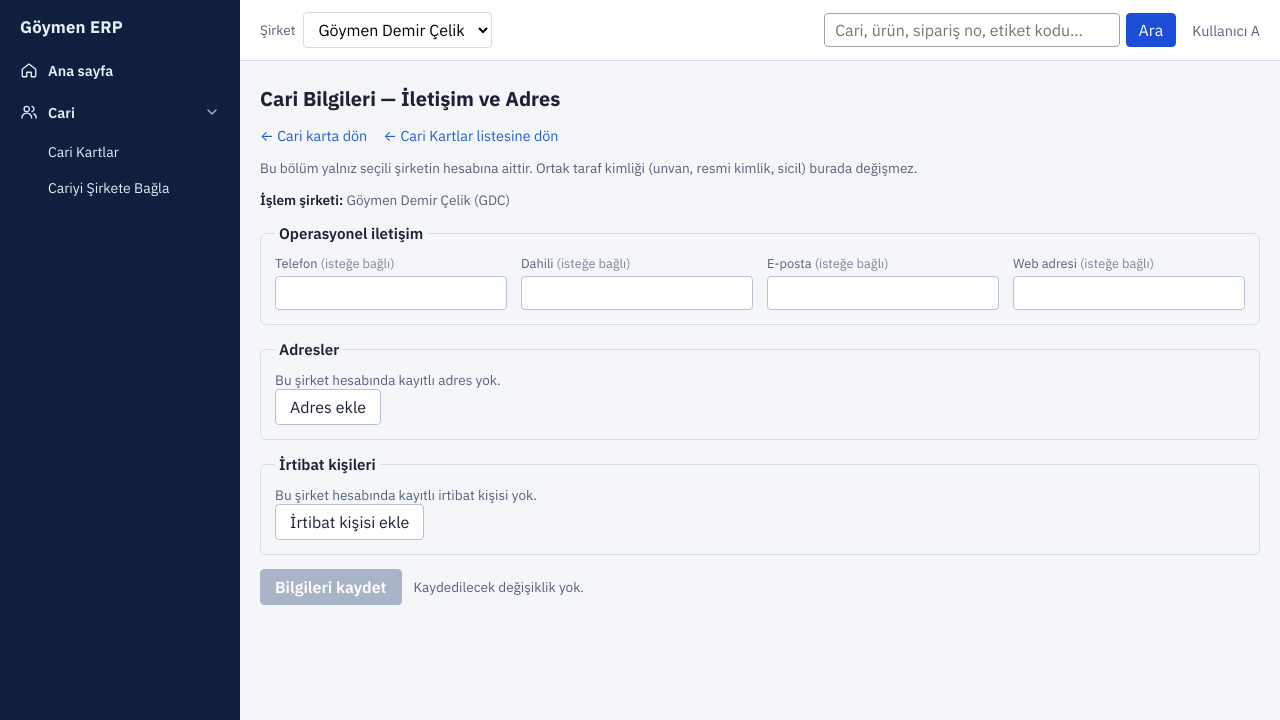
Test: C-06 refusals — the draft survives every one of them › an invalid e-mail stops the save, marks the field and sends nothing
The width and height of the screenshot is (1280, 720).
Type "0212 555 00 00" into the field with id "cari-contact-phone".
click(391, 293); type("0212 555 00 00")  # box x1=275 y1=276 x2=507 y2=310
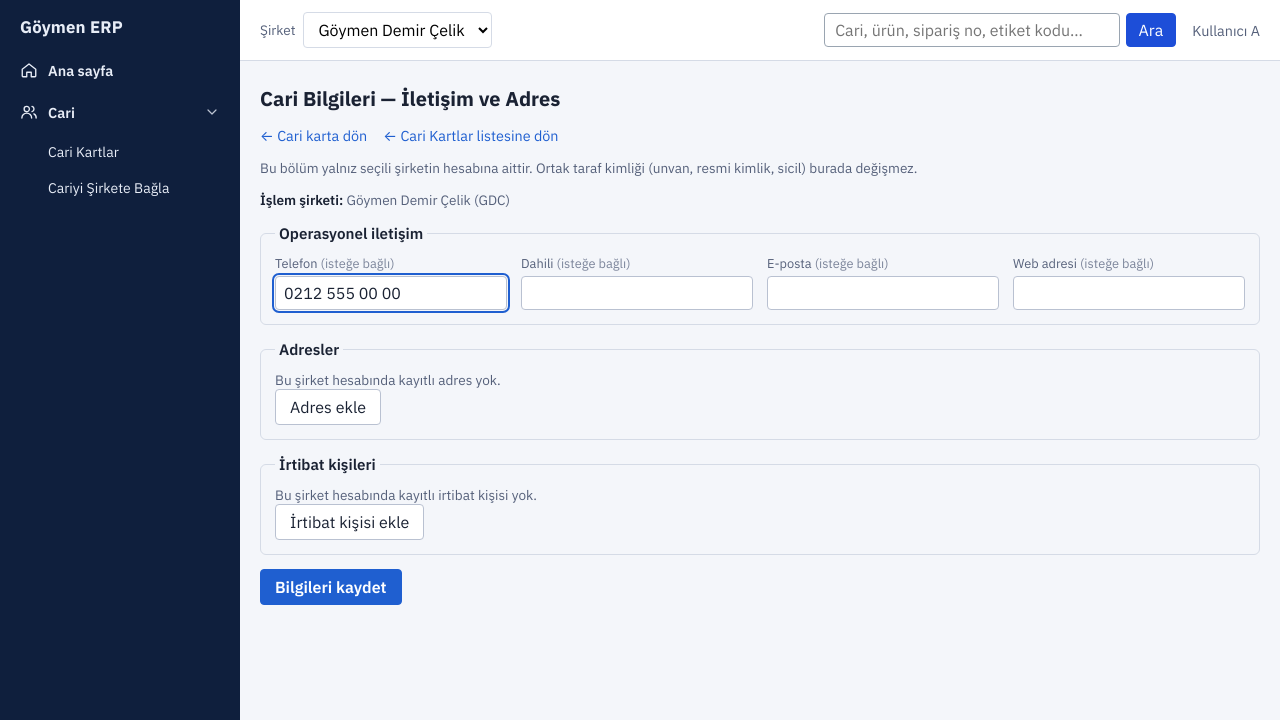
Type "operasyon@" into the field with id "cari-contact-email".
click(883, 293); type("operasyon@")  # box x1=767 y1=276 x2=999 y2=310
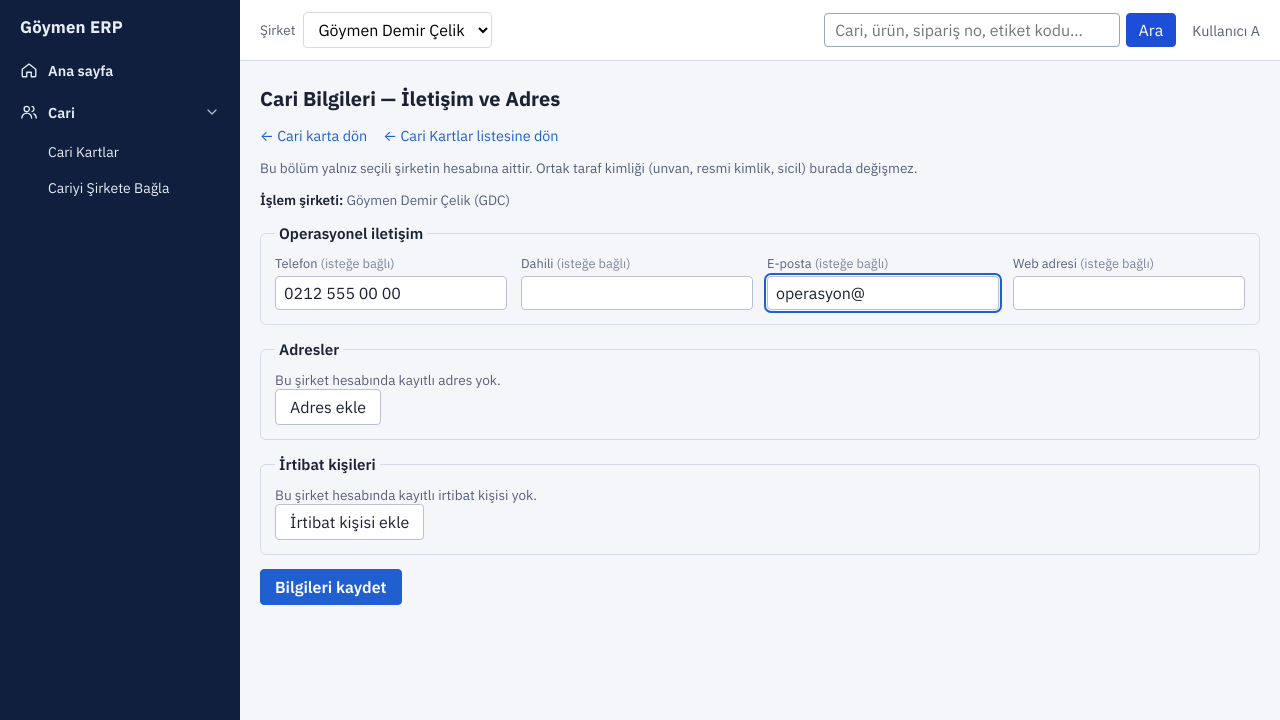
Click the button "Bilgileri kaydet".
click(331, 587)  # box x1=260 y1=569 x2=402 y2=605
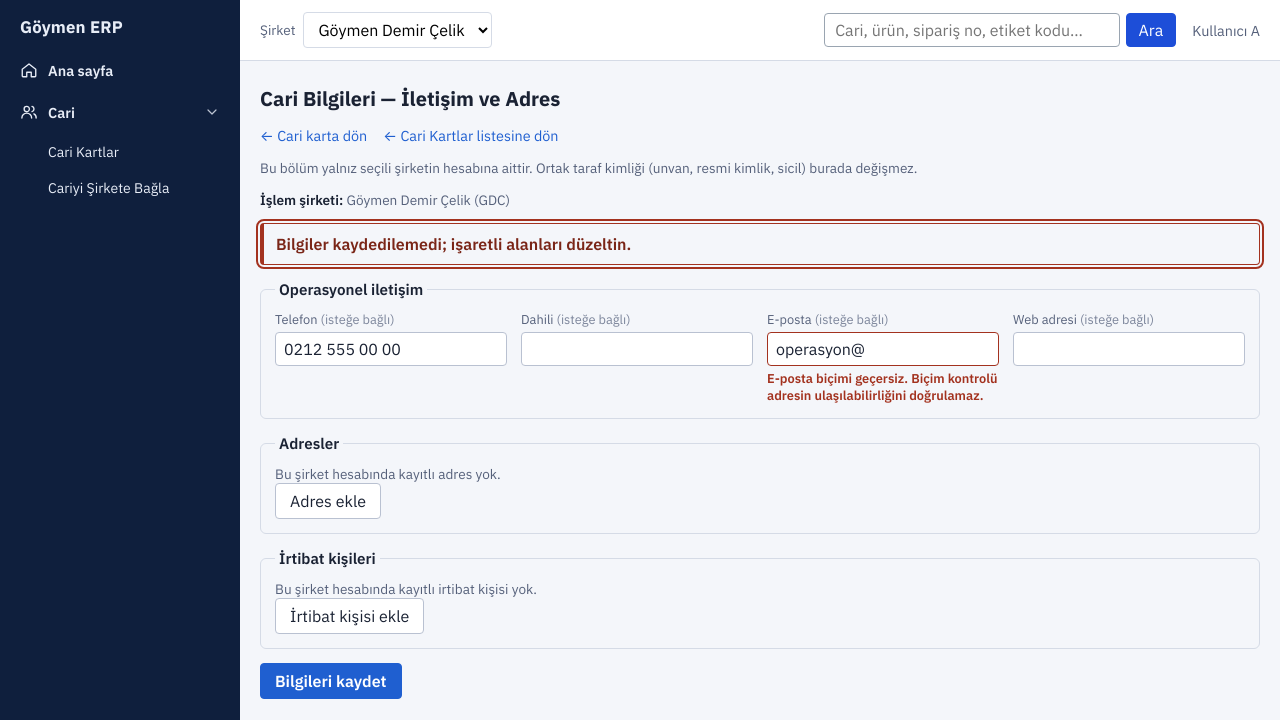
Result: the text "Bilgiler kaydedilemedi; işaretli alanları düzeltin." is shown at x1=260 y1=223 x2=1260 y2=265
Result: the text "E-posta biçimi geçersiz" is shown at x1=767 y1=370 x2=998 y2=404
